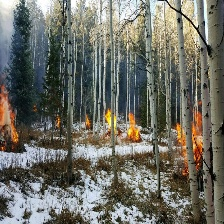fire: (173, 105, 208, 178), (1, 81, 22, 151), (103, 107, 122, 138), (125, 111, 143, 140), (50, 113, 64, 131), (81, 116, 94, 130)
smoke: (1, 3, 53, 91)
